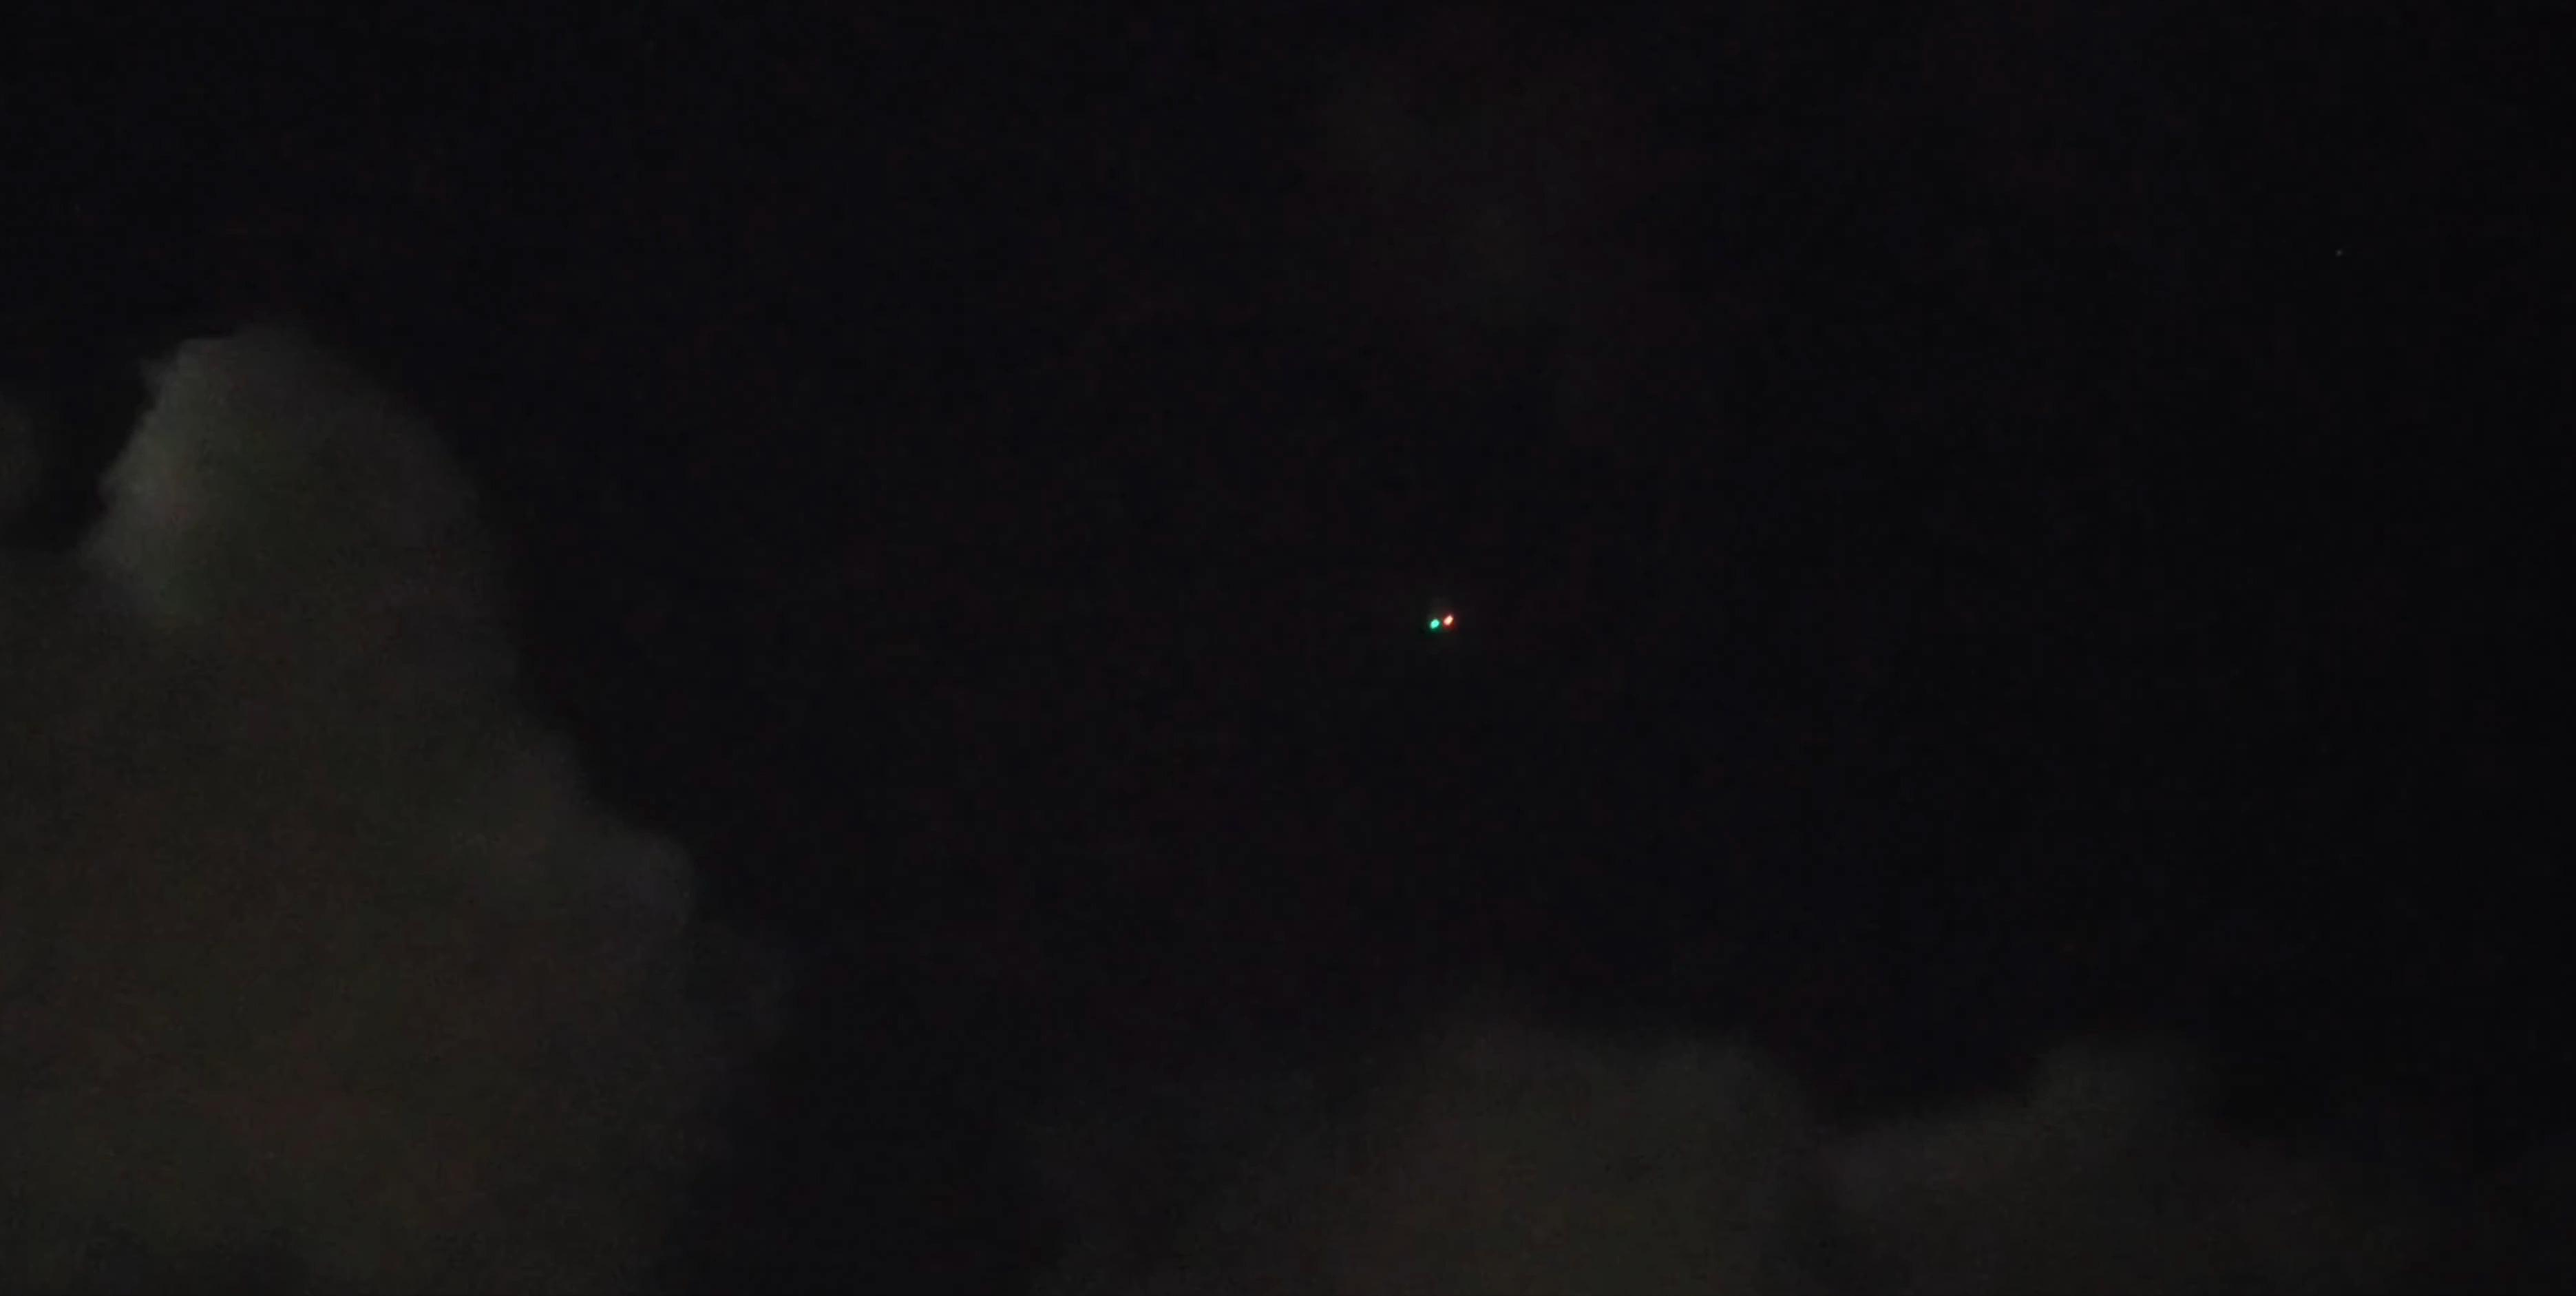Plane: (1375, 587, 1514, 658)
